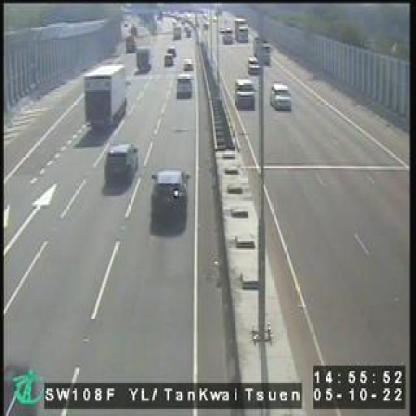Car: (152, 168, 189, 220), (104, 142, 136, 180), (234, 76, 255, 109), (271, 81, 292, 111), (176, 71, 192, 97), (245, 55, 258, 73), (162, 54, 173, 66), (182, 59, 191, 69)
Truck: (83, 62, 124, 126), (254, 36, 270, 62), (233, 19, 248, 42), (135, 45, 148, 71)
